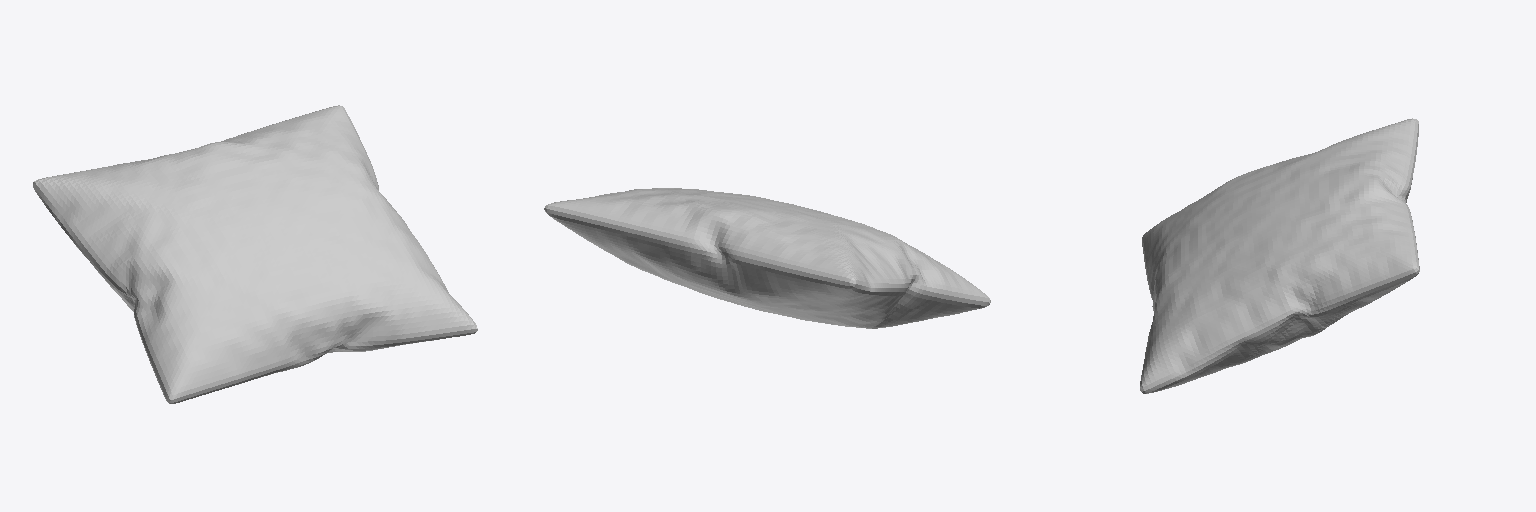
File: Pillow.obj
3 renders of one model, left to right at view 1: azimuth 30°, elevation 25°; view 2: azimuth 150°, elevation 25°; view 3: azimuth 270°, elevation 25°, orthographic.
Visible parts, largest first — view 1: Pillow_Cube.012; view 2: Pillow_Cube.012; view 3: Pillow_Cube.012.
Part boxes in pixels (left/top/right/bottom): Pillow_Cube.012: left=33, top=105, right=477, bottom=403; Pillow_Cube.012: left=544, top=188, right=990, bottom=328; Pillow_Cube.012: left=1140, top=118, right=1419, bottom=393.
Size of the model in its own units: 4.94 by 2.33 by 3.85.